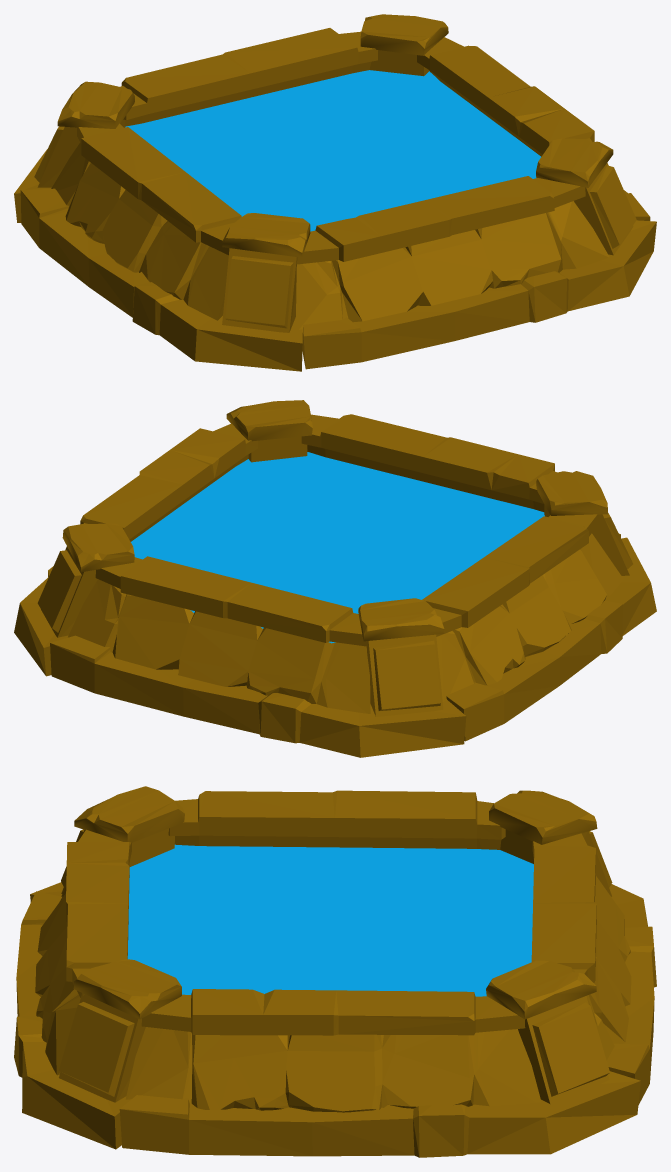
3 views of the same model, one above another, from view 1: azimuth 30°, elevation 25°; view 2: azimuth 150°, elevation 25°; view 3: azimuth 270°, elevation 25° (orthographic). The views are drawn at different scales.
Parts seen in each view (by area): view 1: bg_atm_border_fountain02_sm_bjh; view 2: bg_atm_border_fountain02_sm_bjh; view 3: bg_atm_border_fountain02_sm_bjh.
Boxes of the visible parts, left/top/right/bottom form: bg_atm_border_fountain02_sm_bjh: left=14, top=14, right=656, bottom=371; bg_atm_border_fountain02_sm_bjh: left=14, top=400, right=656, bottom=757; bg_atm_border_fountain02_sm_bjh: left=14, top=786, right=656, bottom=1157.
Size of the model in its own units: 9.76 by 2.16 by 9.76.
